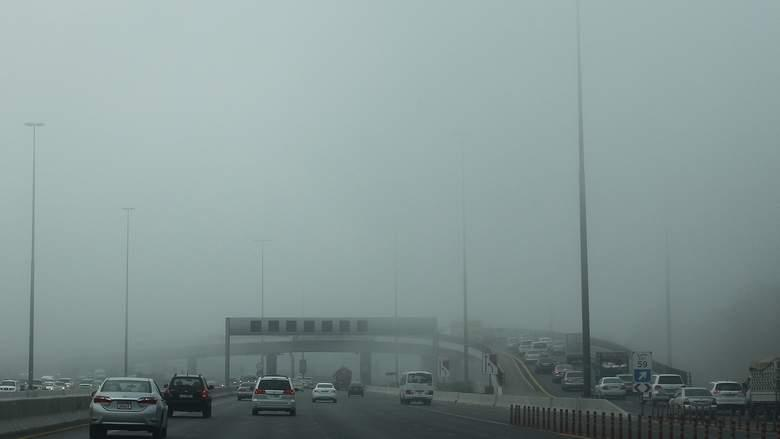bus: (745, 359, 780, 425), (593, 351, 631, 387), (397, 370, 434, 406), (563, 331, 593, 365), (335, 367, 353, 391)
car: (87, 375, 170, 439), (161, 371, 215, 418), (250, 374, 299, 416), (666, 385, 719, 421), (637, 374, 686, 407), (703, 380, 747, 415), (593, 376, 627, 401), (560, 370, 589, 392), (310, 382, 338, 403), (613, 373, 638, 395), (552, 363, 576, 384), (1, 378, 22, 399), (236, 382, 259, 401), (529, 341, 550, 361), (534, 357, 558, 374), (346, 381, 365, 400), (56, 377, 76, 392), (26, 378, 43, 394), (523, 349, 541, 364), (52, 381, 69, 393)
